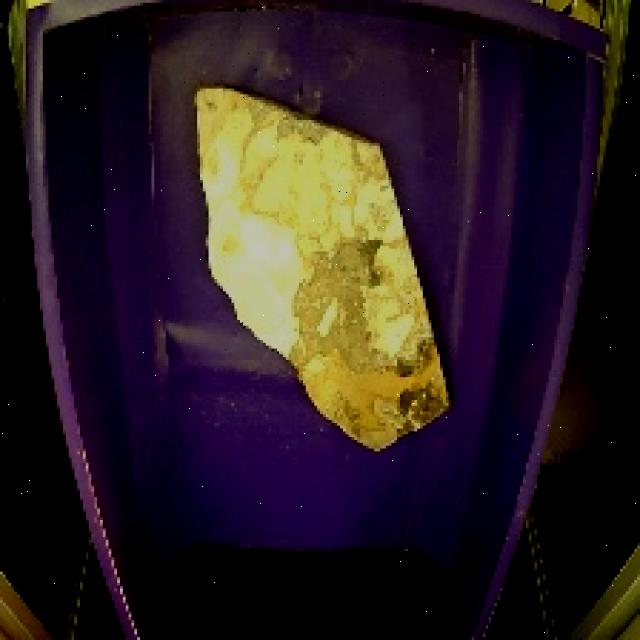china: (184, 72, 463, 466)
